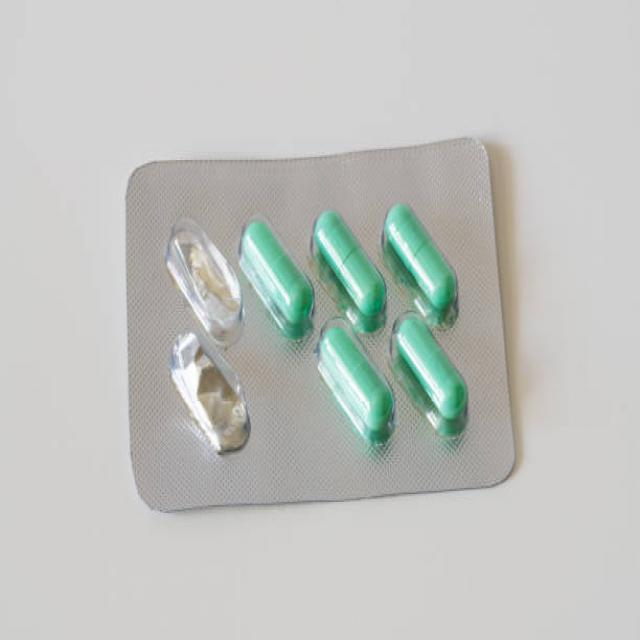Empty: (154, 307, 274, 485), (153, 197, 265, 362)
Pill: (299, 295, 416, 475), (360, 181, 481, 349), (376, 295, 494, 465), (298, 190, 403, 345), (230, 205, 332, 351)
